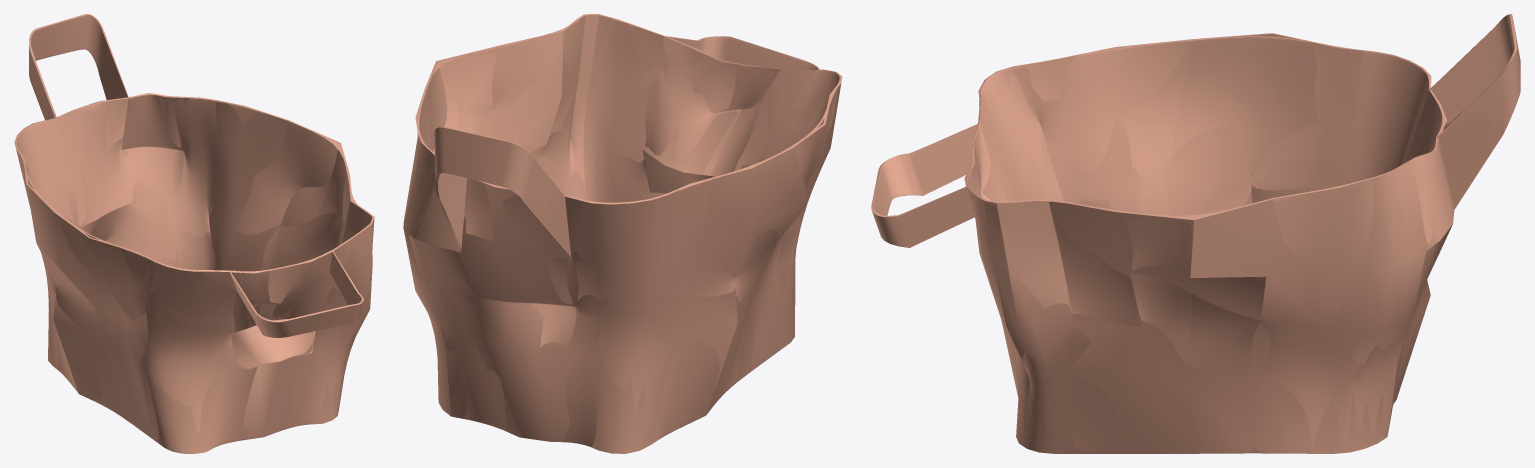
File: yrtkbeztorba.fbx
3 views of the same model, side by side, from view 1: azimuth 30°, elevation 25°; view 2: azimuth 150°, elevation 25°; view 3: azimuth 270°, elevation 25° (orthographic). The views are drawn at different scales.
Parts seen in each view (by area): view 1: Plane.002, Plane, Plane.003; view 2: Plane.002, Plane, Plane.003; view 3: Plane.002, Plane, Plane.003.
Part boxes in pixels (x1,y1,x2,y2): Plane.002: (14, 14, 374, 453); Plane: (16, 15, 341, 408); Plane.003: (56, 152, 373, 447); Plane.002: (403, 14, 842, 453); Plane: (409, 56, 801, 446); Plane.003: (457, 15, 839, 391); Plane.002: (871, 14, 1520, 453); Plane: (1171, 15, 1514, 453); Plane.003: (874, 39, 1193, 451).
Bounding box in the file's own units: 339 × 313 × 509.
